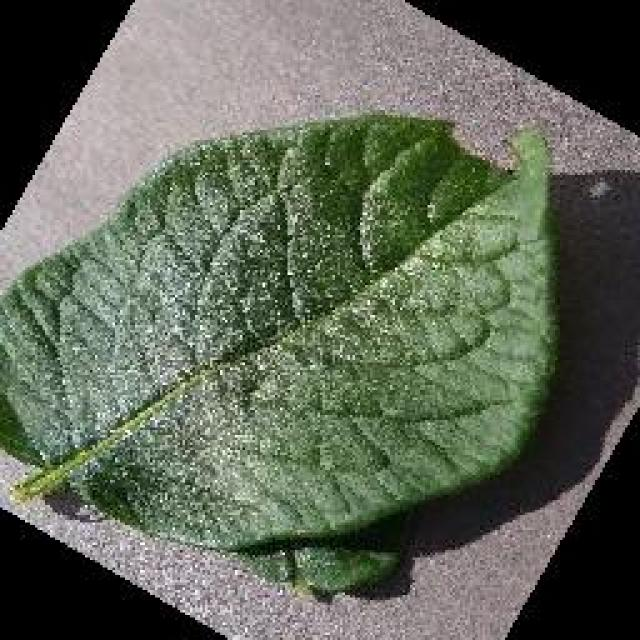Potato___healthy: (0, 111, 562, 606)
